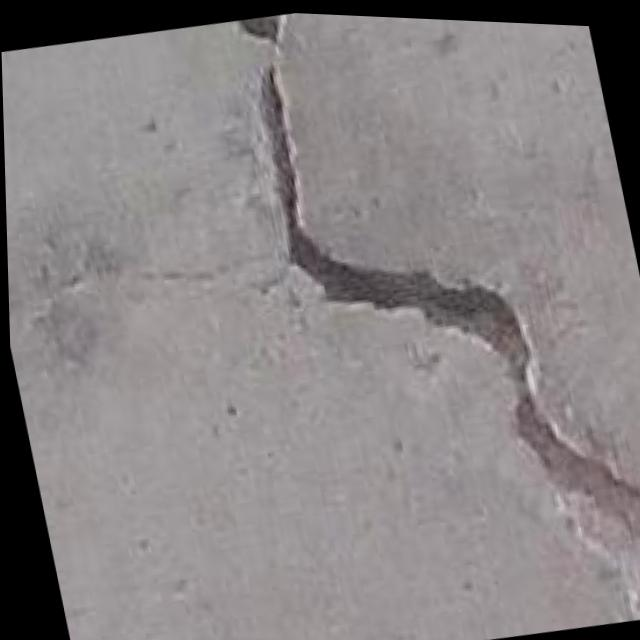Crack: (397, 237, 640, 617), (207, 7, 406, 340)
